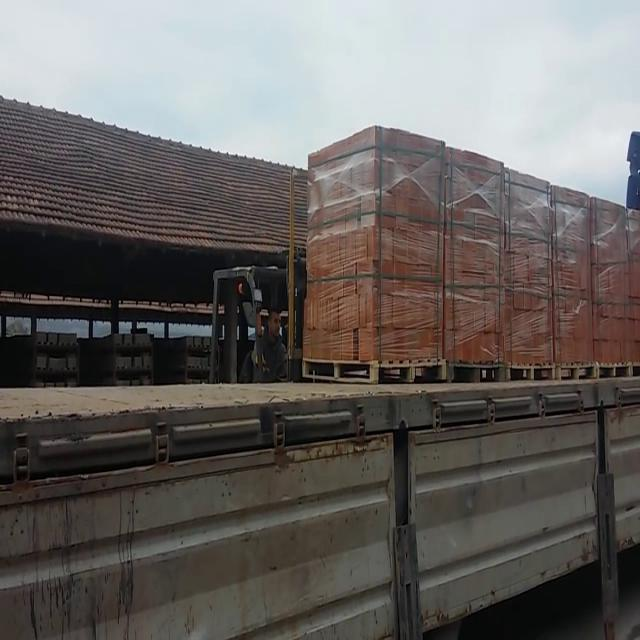Chariot elevateur: (200, 259, 310, 390)
